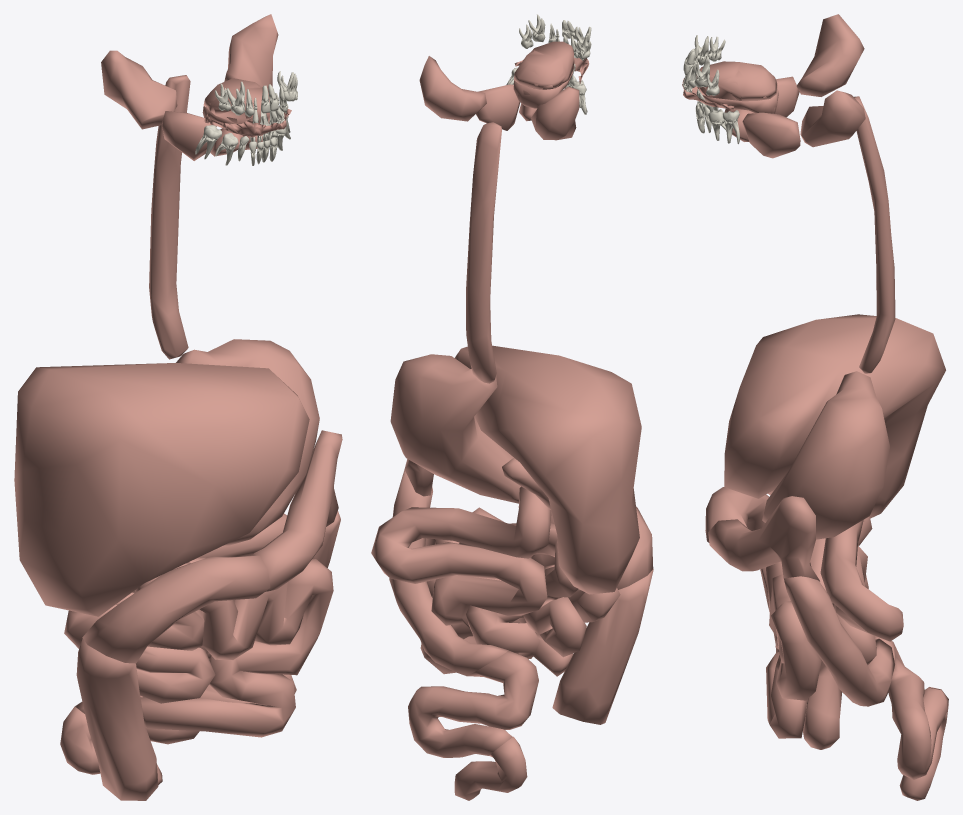
The model's file is pediatric_infant_male.digestive.LOD2.glb.
3 renders of one model, left to right at view 1: azimuth 30°, elevation 25°; view 2: azimuth 150°, elevation 25°; view 3: azimuth 270°, elevation 25°, orthographic. The views are drawn at different scales.
Parts seen in each view (by area): view 1: PEDIATRIC.INFANT.MALE.DIGESTIVE.LIVER, PEDIATRIC.INFANT.MALE.DIGESTIVE.SMALL_INTESTINE_WALL, PEDIATRIC.INFANT.MALE.DIGESTIVE.TRANSVERSE_COLON_WALL.R, PEDIATRIC.INFANT.MALE.DIGESTIVE.ASCENDING_COLON_WALL, PEDIATRIC.INFANT.MALE.DIGESTIVE.OESOPHAGUS_WALL, PEDIATRIC.INFANT.MALE.DIGESTIVE.TRANSVERSE_COLON_WALL.L, PEDIATRIC.INFANT.MALE.DIGESTIVE.SALIVARY_GLANDS.R, PEDIATRIC.INFANT.MALE.DIGESTIVE.STOMACH_WALL, PEDIATRIC.INFANT.MALE.DIGESTIVE.SALIVARY_GLANDS.L, PEDIATRIC.INFANT.MALE.DIGESTIVE.DECIDUOUS_CEMENTUM, PEDIATRIC.INFANT.MALE.DIGESTIVE.RECTUM_WALL, PEDIATRIC.INFANT.MALE.DIGESTIVE.ORAL_MUCOSA_MOUTH_FLOOR (+5 smaller); view 2: PEDIATRIC.INFANT.MALE.DIGESTIVE.LIVER, PEDIATRIC.INFANT.MALE.DIGESTIVE.SMALL_INTESTINE_WALL, PEDIATRIC.INFANT.MALE.DIGESTIVE.STOMACH_WALL, PEDIATRIC.INFANT.MALE.DIGESTIVE.SIGMOID_COLON_WALL, PEDIATRIC.INFANT.MALE.DIGESTIVE.ASCENDING_COLON_WALL, PEDIATRIC.INFANT.MALE.DIGESTIVE.OESOPHAGUS_WALL, PEDIATRIC.INFANT.MALE.DIGESTIVE.DESCENDING_COLON_WALL, PEDIATRIC.INFANT.MALE.DIGESTIVE.SALIVARY_GLANDS.L, PEDIATRIC.INFANT.MALE.DIGESTIVE.RECTUM_WALL, PEDIATRIC.INFANT.MALE.DIGESTIVE.ORAL_MUCOSA_MOUTH_FLOOR, PEDIATRIC.INFANT.MALE.DIGESTIVE.SALIVARY_GLANDS.R, PEDIATRIC.INFANT.MALE.DIGESTIVE.TRANSVERSE_COLON_WALL.R (+5 smaller); view 3: PEDIATRIC.INFANT.MALE.DIGESTIVE.LIVER, PEDIATRIC.INFANT.MALE.DIGESTIVE.SMALL_INTESTINE_WALL, PEDIATRIC.INFANT.MALE.DIGESTIVE.STOMACH_WALL, PEDIATRIC.INFANT.MALE.DIGESTIVE.DESCENDING_COLON_WALL, PEDIATRIC.INFANT.MALE.DIGESTIVE.TRANSVERSE_COLON_WALL.L, PEDIATRIC.INFANT.MALE.DIGESTIVE.SALIVARY_GLANDS.L, PEDIATRIC.INFANT.MALE.DIGESTIVE.SIGMOID_COLON_WALL, PEDIATRIC.INFANT.MALE.DIGESTIVE.OESOPHAGUS_WALL, PEDIATRIC.INFANT.MALE.DIGESTIVE.SALIVARY_GLANDS.R, PEDIATRIC.INFANT.MALE.DIGESTIVE.ORAL_MUCOSA_MOUTH_FLOOR, PEDIATRIC.INFANT.MALE.DIGESTIVE.TRANSVERSE_COLON_WALL.R, PEDIATRIC.INFANT.MALE.DIGESTIVE.DECIDUOUS_CEMENTUM (+3 smaller).
Part boxes in pixels (left/top/right/bottom): PEDIATRIC.INFANT.MALE.DIGESTIVE.LIVER: left=14, top=363, right=309, bottom=616; PEDIATRIC.INFANT.MALE.DIGESTIVE.SMALL_INTESTINE_WALL: left=64, top=513, right=333, bottom=737; PEDIATRIC.INFANT.MALE.DIGESTIVE.TRANSVERSE_COLON_WALL.R: left=82, top=555, right=270, bottom=663; PEDIATRIC.INFANT.MALE.DIGESTIVE.ASCENDING_COLON_WALL: left=76, top=638, right=158, bottom=800; PEDIATRIC.INFANT.MALE.DIGESTIVE.OESOPHAGUS_WALL: left=149, top=75, right=190, bottom=359; PEDIATRIC.INFANT.MALE.DIGESTIVE.TRANSVERSE_COLON_WALL.L: left=252, top=430, right=342, bottom=591; PEDIATRIC.INFANT.MALE.DIGESTIVE.SALIVARY_GLANDS.R: left=101, top=50, right=243, bottom=160; PEDIATRIC.INFANT.MALE.DIGESTIVE.STOMACH_WALL: left=176, top=339, right=319, bottom=545; PEDIATRIC.INFANT.MALE.DIGESTIVE.SALIVARY_GLANDS.L: left=224, top=14, right=278, bottom=149; PEDIATRIC.INFANT.MALE.DIGESTIVE.DECIDUOUS_CEMENTUM: left=195, top=71, right=297, bottom=165; PEDIATRIC.INFANT.MALE.DIGESTIVE.RECTUM_WALL: left=60, top=706, right=162, bottom=784; PEDIATRIC.INFANT.MALE.DIGESTIVE.ORAL_MUCOSA_MOUTH_FLOOR: left=203, top=78, right=269, bottom=123; PEDIATRIC.INFANT.MALE.DIGESTIVE.LIVER: left=455, top=345, right=641, bottom=594; PEDIATRIC.INFANT.MALE.DIGESTIVE.SMALL_INTESTINE_WALL: left=371, top=486, right=620, bottom=676; PEDIATRIC.INFANT.MALE.DIGESTIVE.STOMACH_WALL: left=390, top=354, right=520, bottom=503; PEDIATRIC.INFANT.MALE.DIGESTIVE.SIGMOID_COLON_WALL: left=408, top=650, right=538, bottom=757; PEDIATRIC.INFANT.MALE.DIGESTIVE.ASCENDING_COLON_WALL: left=552, top=569, right=653, bottom=724; PEDIATRIC.INFANT.MALE.DIGESTIVE.OESOPHAGUS_WALL: left=466, top=122, right=501, bottom=383; PEDIATRIC.INFANT.MALE.DIGESTIVE.DESCENDING_COLON_WALL: left=389, top=469, right=508, bottom=676; PEDIATRIC.INFANT.MALE.DIGESTIVE.SALIVARY_GLANDS.L: left=419, top=56, right=536, bottom=130; PEDIATRIC.INFANT.MALE.DIGESTIVE.RECTUM_WALL: left=454, top=736, right=527, bottom=800; PEDIATRIC.INFANT.MALE.DIGESTIVE.ORAL_MUCOSA_MOUTH_FLOOR: left=514, top=41, right=574, bottom=89; PEDIATRIC.INFANT.MALE.DIGESTIVE.SALIVARY_GLANDS.R: left=531, top=86, right=579, bottom=140; PEDIATRIC.INFANT.MALE.DIGESTIVE.TRANSVERSE_COLON_WALL.R: left=617, top=506, right=653, bottom=589; PEDIATRIC.INFANT.MALE.DIGESTIVE.LIVER: left=724, top=314, right=945, bottom=518; PEDIATRIC.INFANT.MALE.DIGESTIVE.SMALL_INTESTINE_WALL: left=766, top=516, right=903, bottom=749; PEDIATRIC.INFANT.MALE.DIGESTIVE.STOMACH_WALL: left=762, top=371, right=889, bottom=539; PEDIATRIC.INFANT.MALE.DIGESTIVE.DESCENDING_COLON_WALL: left=784, top=576, right=894, bottom=706; PEDIATRIC.INFANT.MALE.DIGESTIVE.TRANSVERSE_COLON_WALL.L: left=708, top=496, right=819, bottom=581; PEDIATRIC.INFANT.MALE.DIGESTIVE.SALIVARY_GLANDS.L: left=731, top=90, right=865, bottom=158; PEDIATRIC.INFANT.MALE.DIGESTIVE.SIGMOID_COLON_WALL: left=875, top=636, right=948, bottom=779; PEDIATRIC.INFANT.MALE.DIGESTIVE.OESOPHAGUS_WALL: left=854, top=96, right=895, bottom=373; PEDIATRIC.INFANT.MALE.DIGESTIVE.SALIVARY_GLANDS.R: left=724, top=14, right=864, bottom=117; PEDIATRIC.INFANT.MALE.DIGESTIVE.ORAL_MUCOSA_MOUTH_FLOOR: left=696, top=61, right=777, bottom=101; PEDIATRIC.INFANT.MALE.DIGESTIVE.TRANSVERSE_COLON_WALL.R: left=705, top=487, right=768, bottom=542; PEDIATRIC.INFANT.MALE.DIGESTIVE.DECIDUOUS_CEMENTUM: left=683, top=35, right=739, bottom=144.
Bounding box in the file's own units: 0.1371 × 0.3662 × 0.1175.
